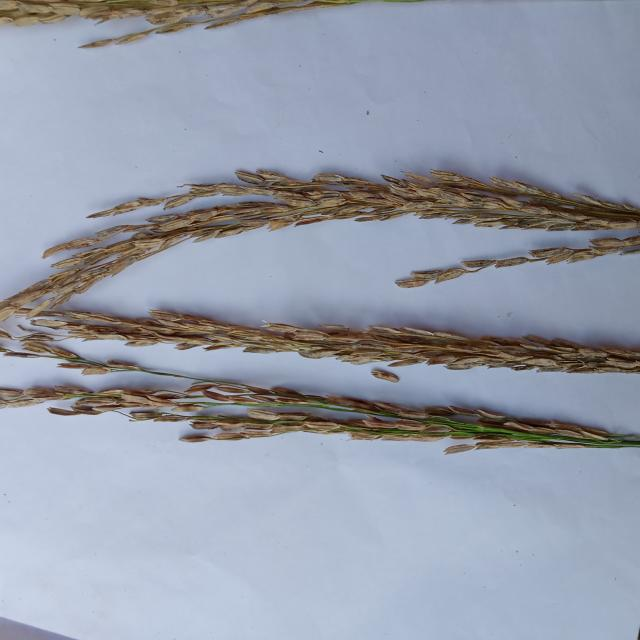Neck_Blast: (1, 169, 640, 339), (0, 335, 608, 442), (49, 303, 638, 372), (49, 400, 349, 443)
